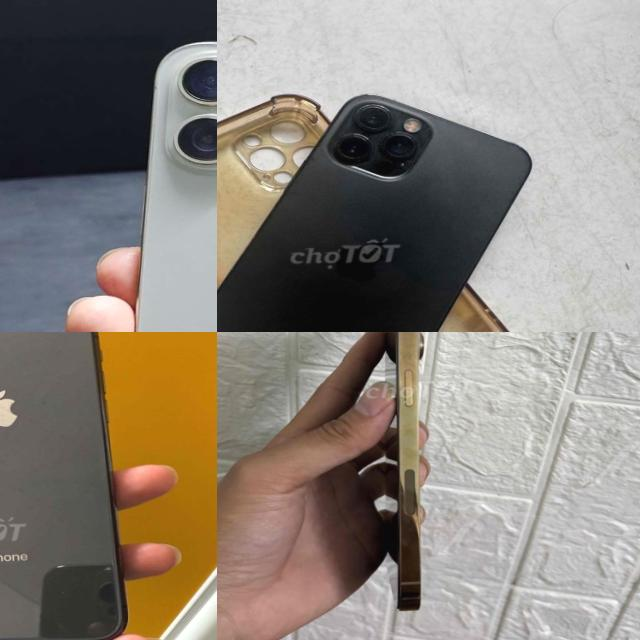gen_12_13: (217, 86, 531, 332), (364, 332, 488, 625)
gen_15: (105, 27, 217, 332)
gen_x_xs: (0, 332, 126, 640)
scratch: (88, 561, 125, 581)
